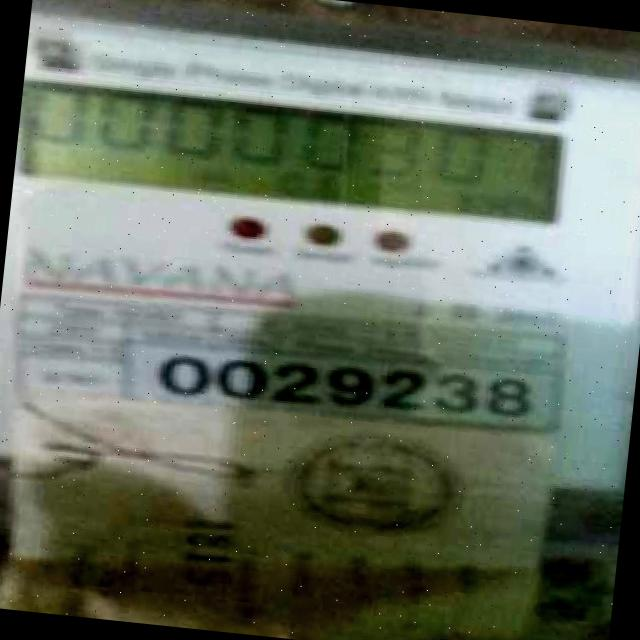LCD: (12, 73, 585, 245)
